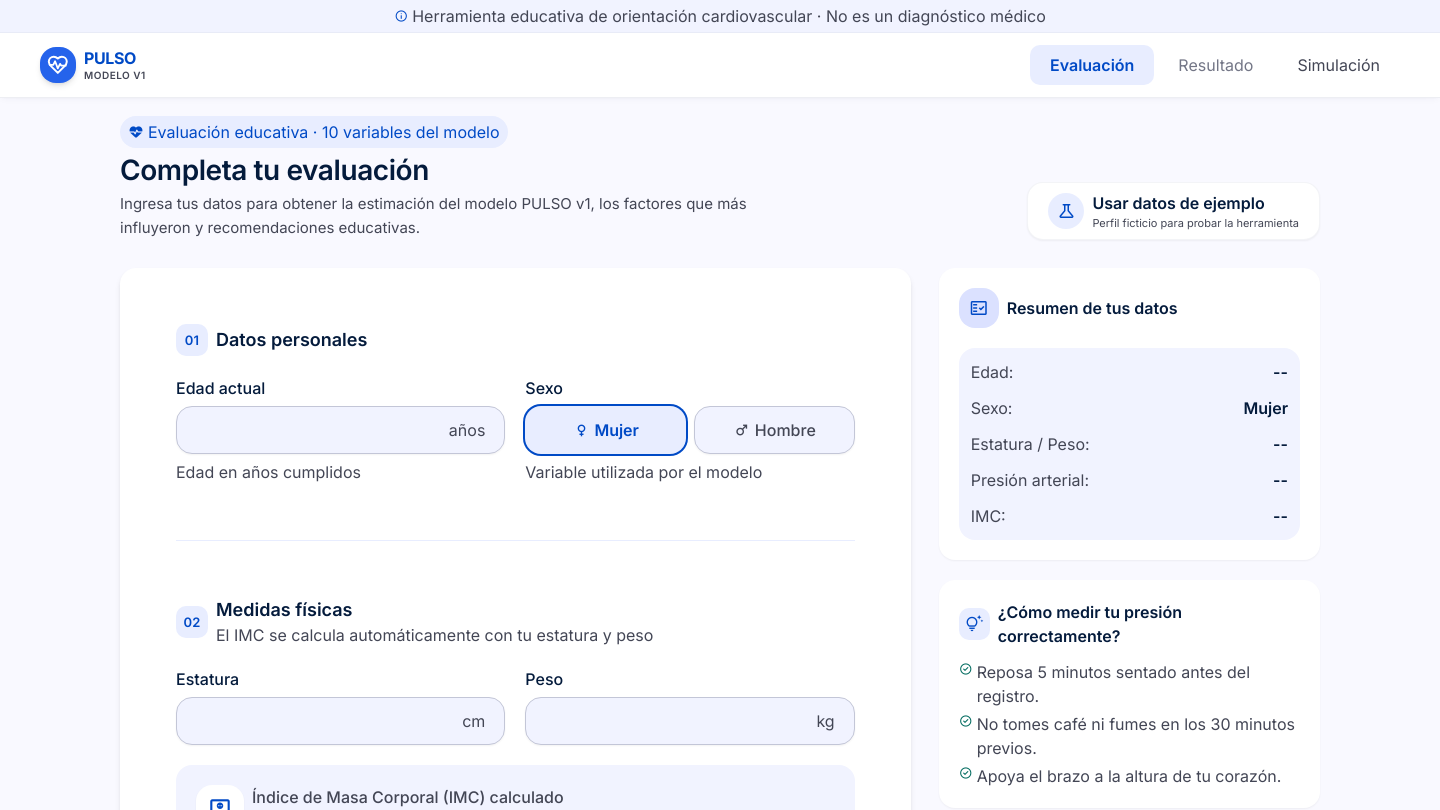
Test: interpretación del resultado › describe SHAP como contribución al modelo, sin causalidad
In the number field labelled "Edad actual": (341,430) [176,406,505,454], type "47"
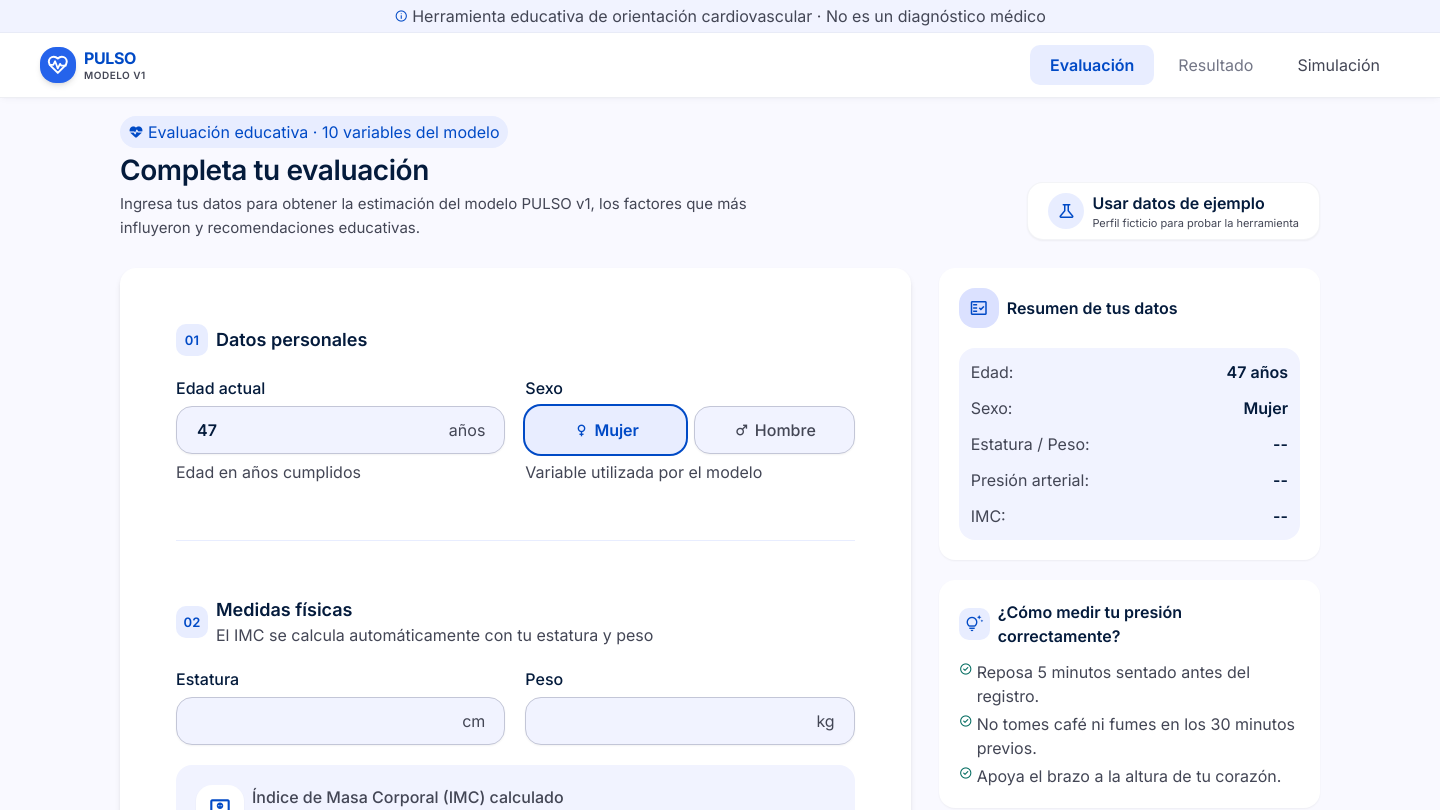
In the number field labelled "Estatura": (341,721) [176,697,505,745], type "170"
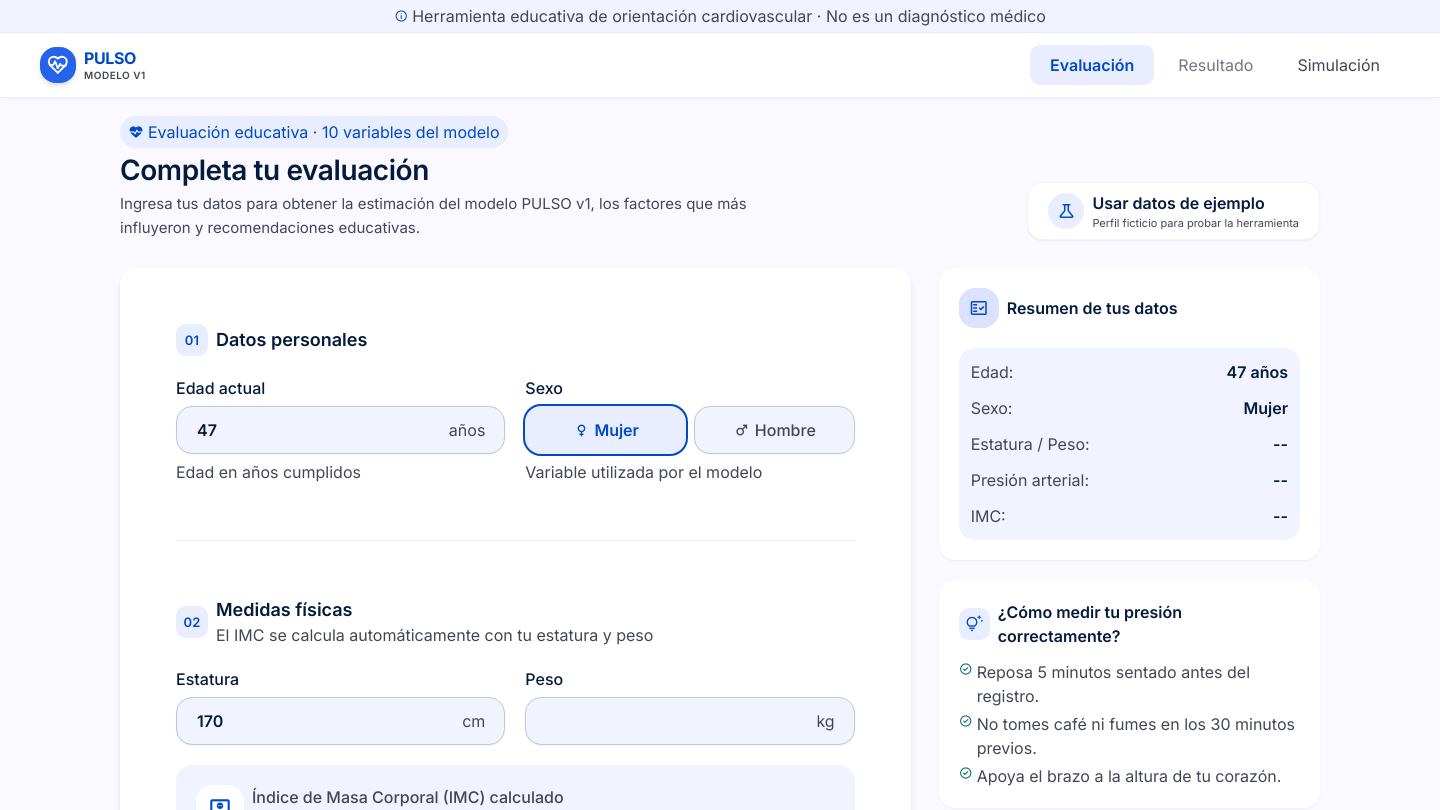
In the number field labelled "Peso": (690,721) [525,697,855,745], type "80"
(page scrolled)
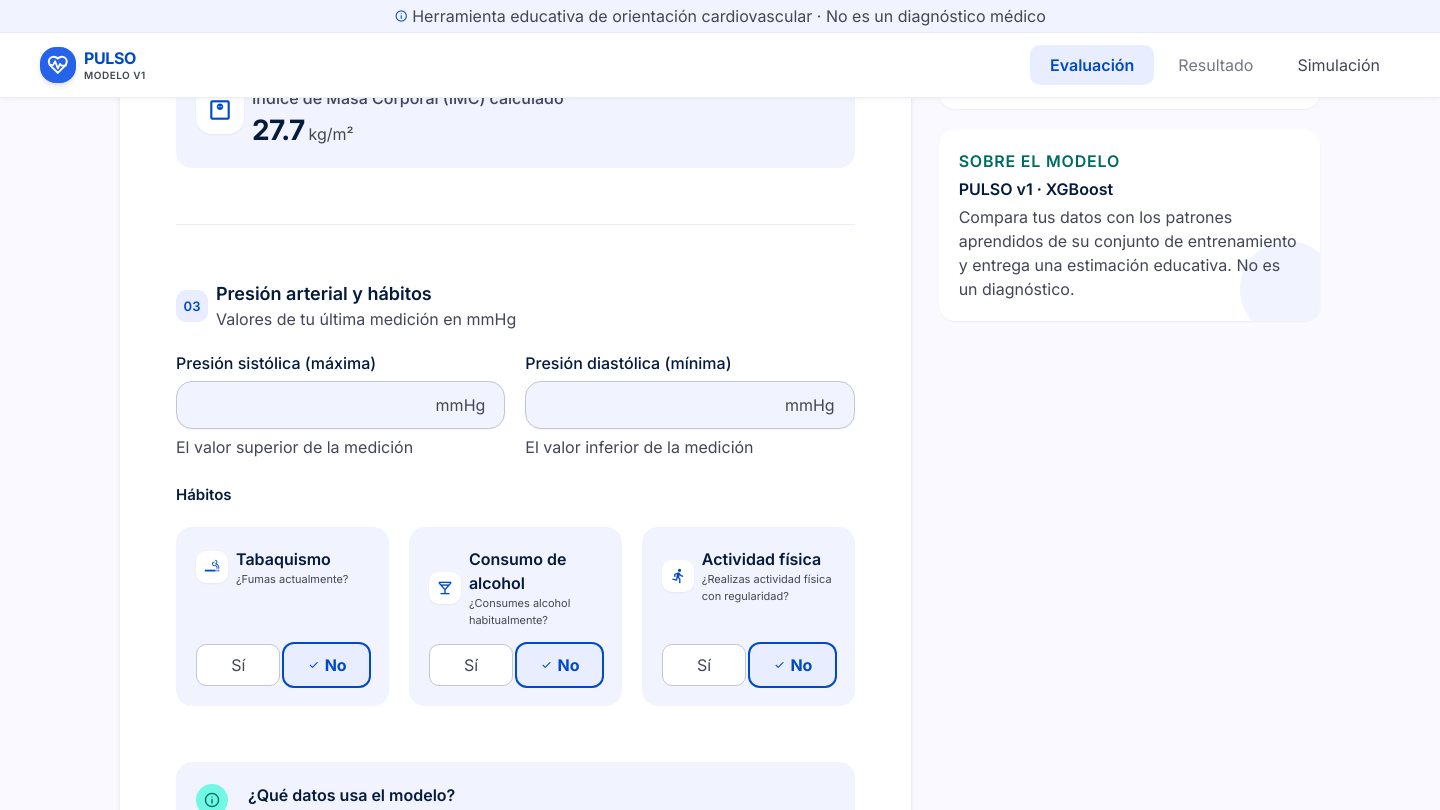
In the number field labelled "Presión sistólica (máxima)": (341,405) [176,381,505,429], type "128"
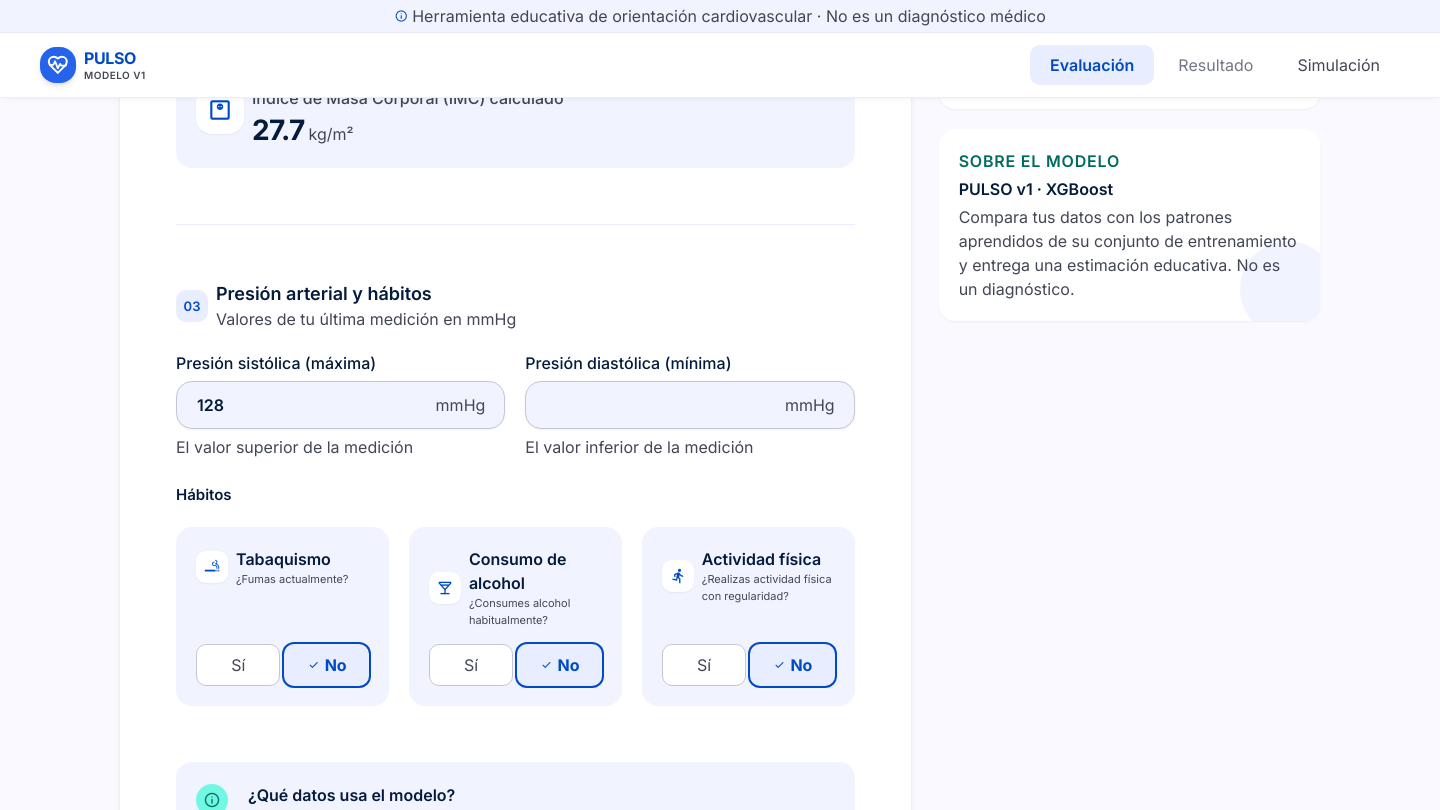
In the number field labelled "Presión diastólica (mínima)": (690,405) [525,381,855,429], type "82"
(page scrolled)
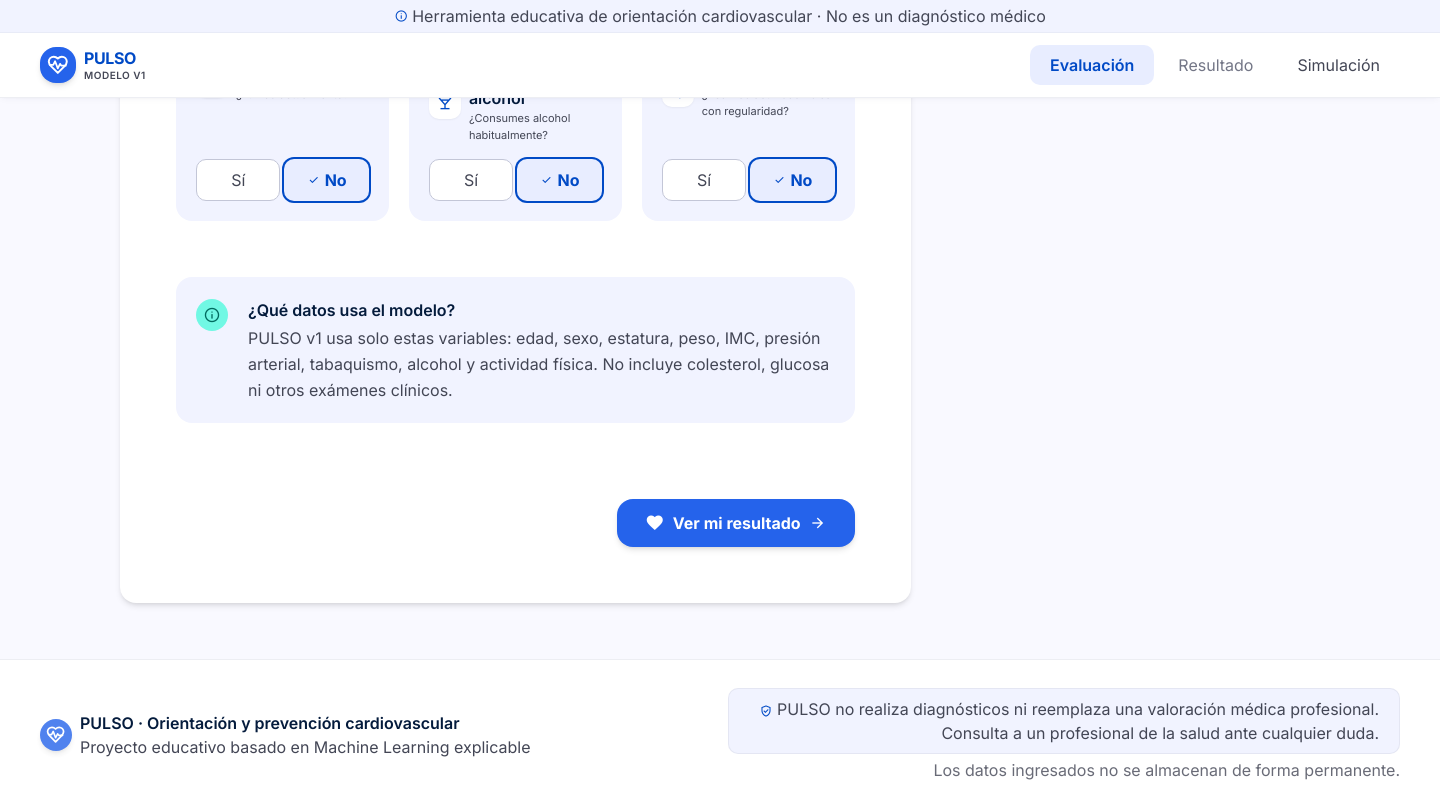
Click the button "Ver mi resultado": (736,523) [617,499,855,547]
(page scrolled)
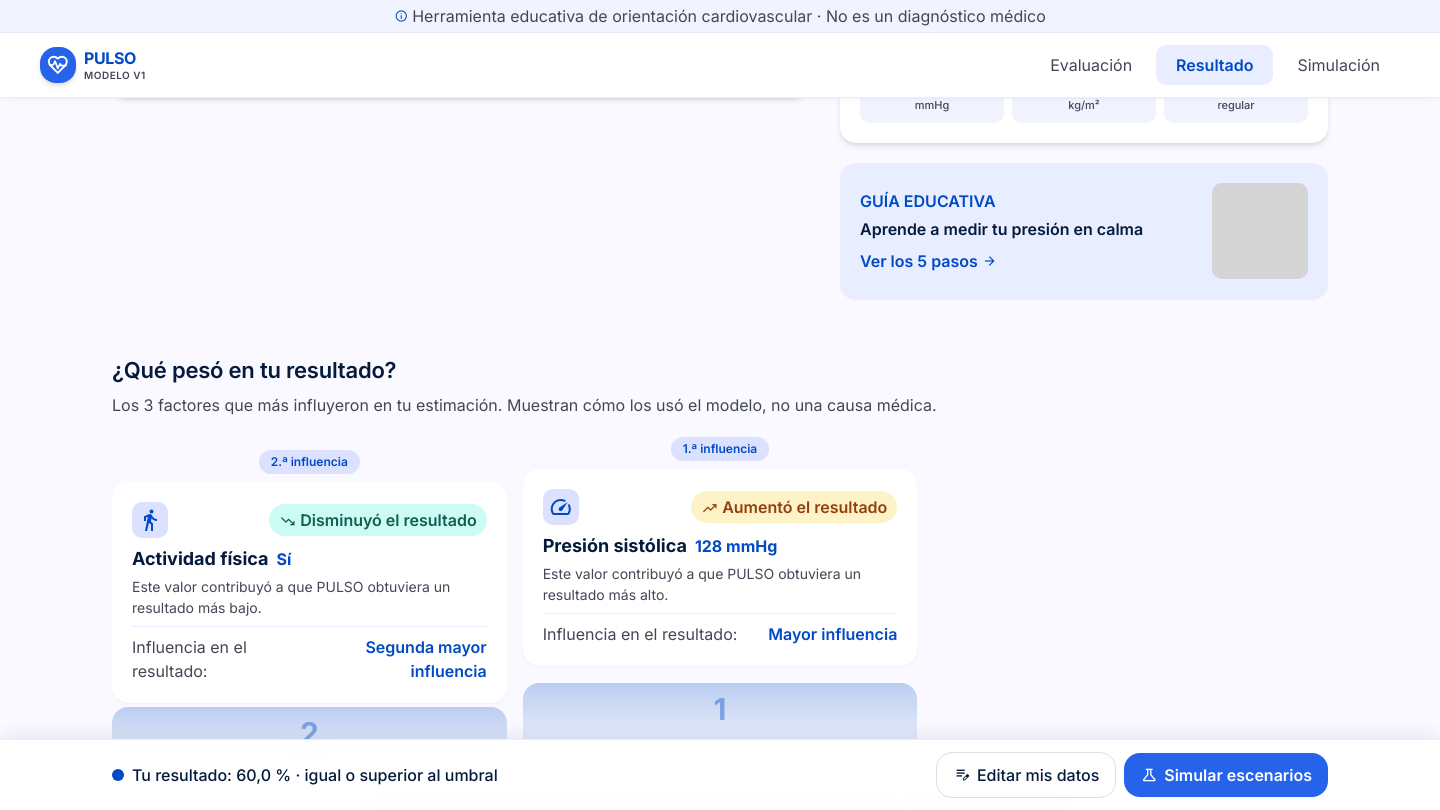
Now the text "Aumentó el resultado" is shown, box [691,491,897,523]
Now the heading "¿Qué pesó en tu resultado?" is shown, box [112,357,396,383]
Now the text "Los 3 factores que más influyeron en tu estimación" shows "Muestran cómo los usó el modelo, no una causa médica.", box [112,395,937,415]
